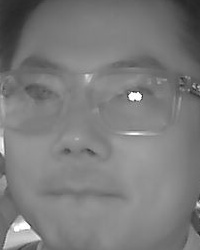glass: (88, 63, 183, 137), (1, 63, 69, 133)
mouth: (45, 175, 119, 213)
